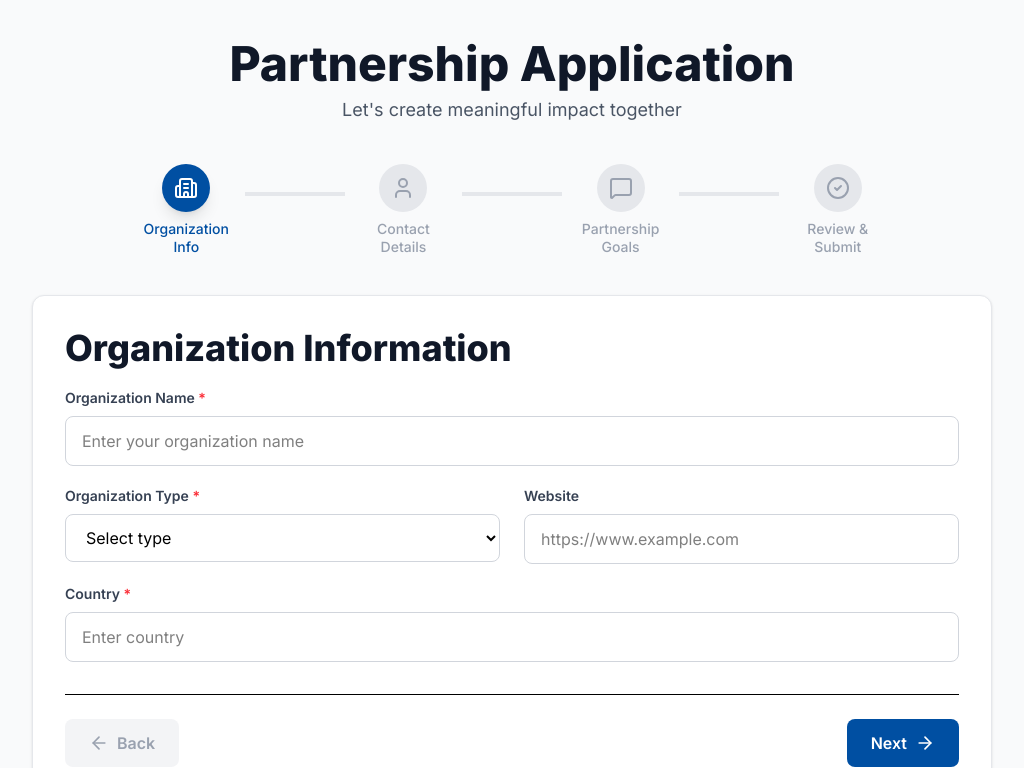
Test case: Partnership Application Form › allows navigation through form steps when fields are filled
The image size is (1024, 768).
Note: Fill organization name
Type "Test Organization" into the field with placeholder "Enter your organization name" at (512, 441), box top-left (65, 416), bottom-right (959, 466)
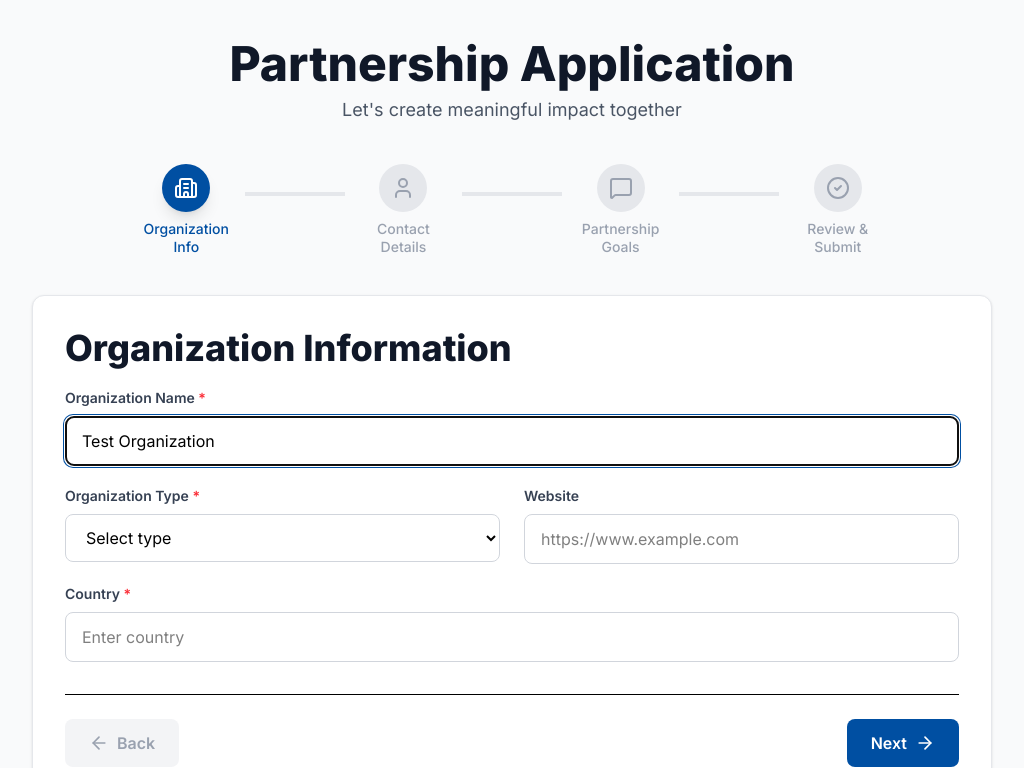
Note: Fill organization type - now has proper htmlFor
Select "Corporate/Business" in the dropdown labelled "Organization Type *" at (282, 538), box top-left (65, 514), bottom-right (500, 562)
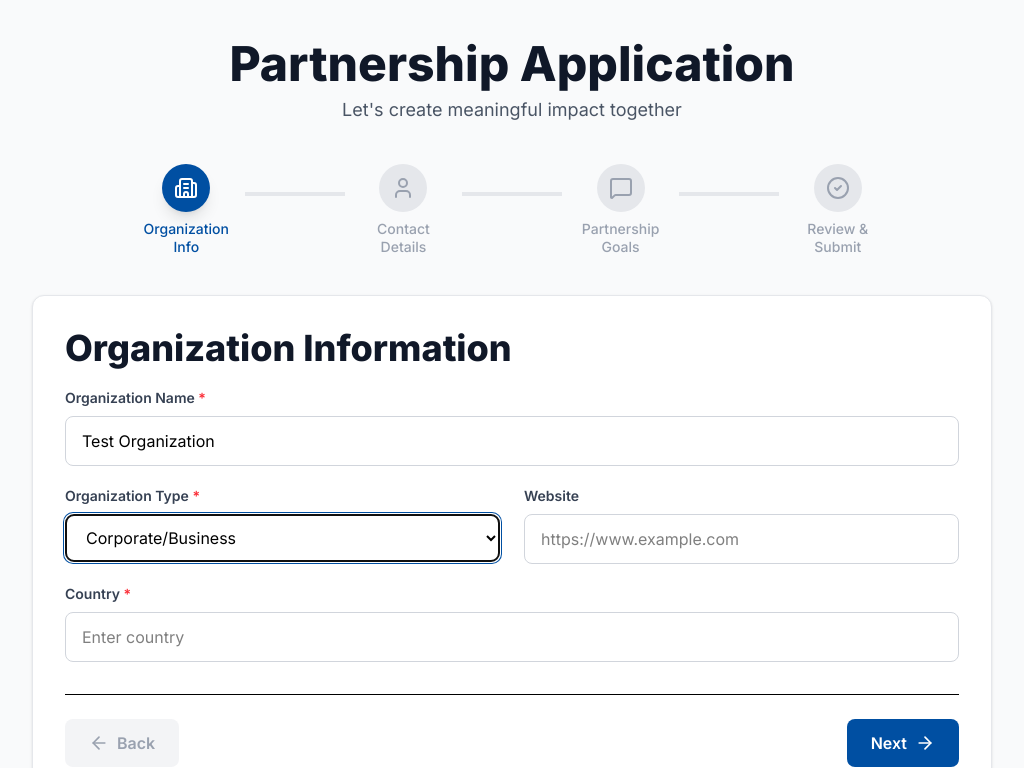
Note: Fill country
Type "Ghana" into the field with placeholder "Enter country" at (512, 637), box top-left (65, 612), bottom-right (959, 662)
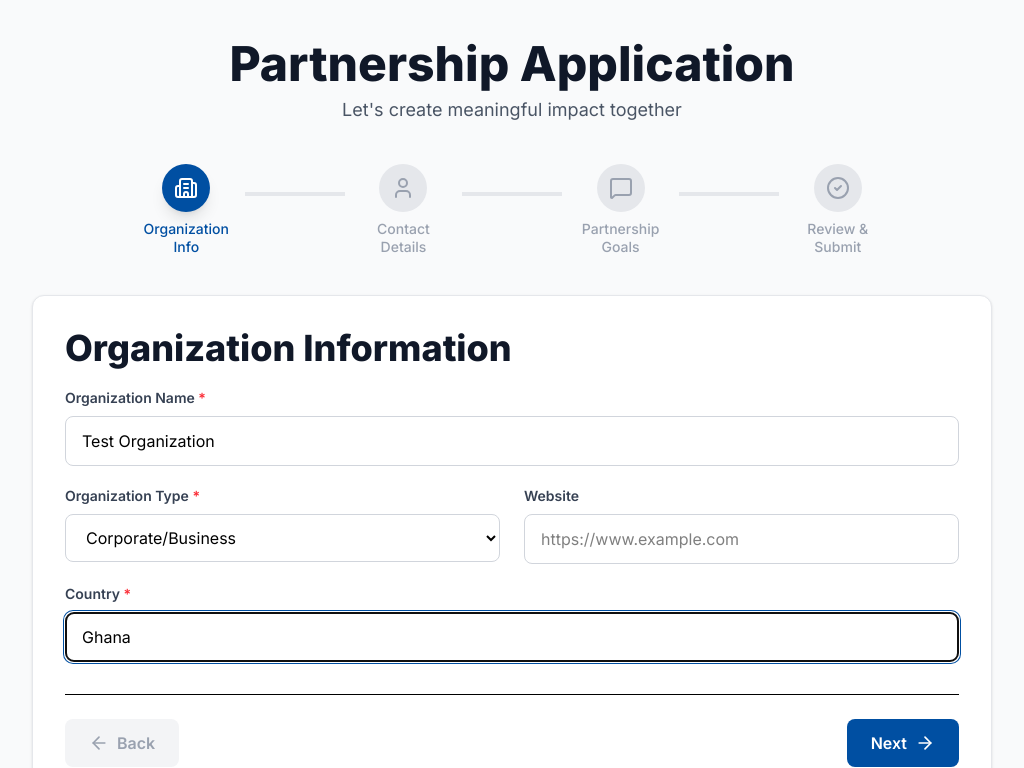
Note: Click next (website is optional, no description on step 1)
Click the button "Next" at (903, 743), box top-left (847, 719), bottom-right (959, 767)
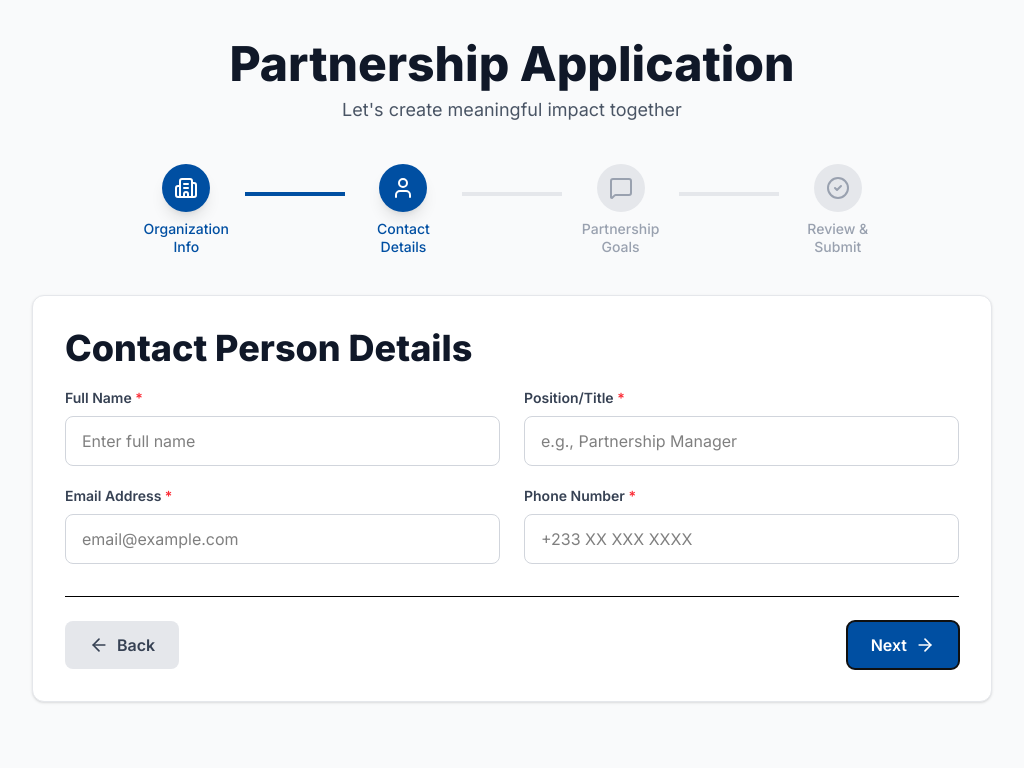
Check: the heading "Contact Person Details" is shown, box top-left (65, 326), bottom-right (472, 370)
